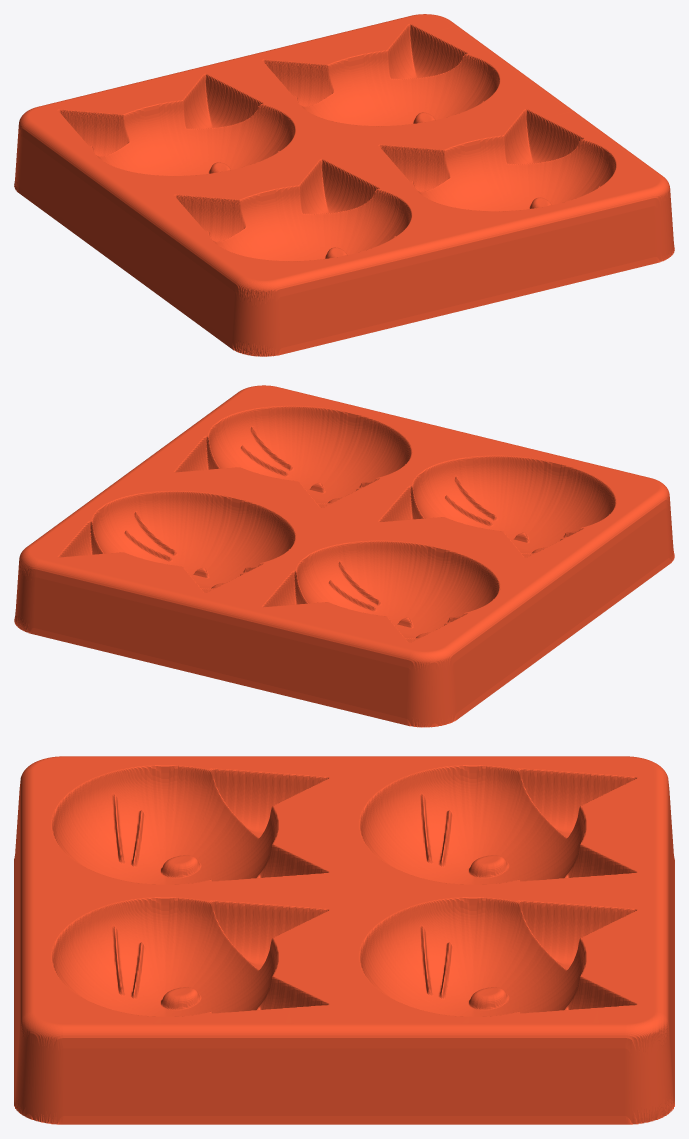
Rendered from mold.glb.
3 renders of one model, top to bottom at view 1: azimuth 30°, elevation 25°; view 2: azimuth 150°, elevation 25°; view 3: azimuth 270°, elevation 25°, orthographic. The views are drawn at different scales.
Parts seen in each view (by area): view 1: geometry_0; view 2: geometry_0; view 3: geometry_0.
Part boxes in pixels (bbox=[...]): geometry_0: bbox=[14, 14, 674, 356]; geometry_0: bbox=[14, 385, 674, 727]; geometry_0: bbox=[14, 756, 674, 1124].
Bounding box in the file's own units: 0.1218 × 0.0185 × 0.1202.
